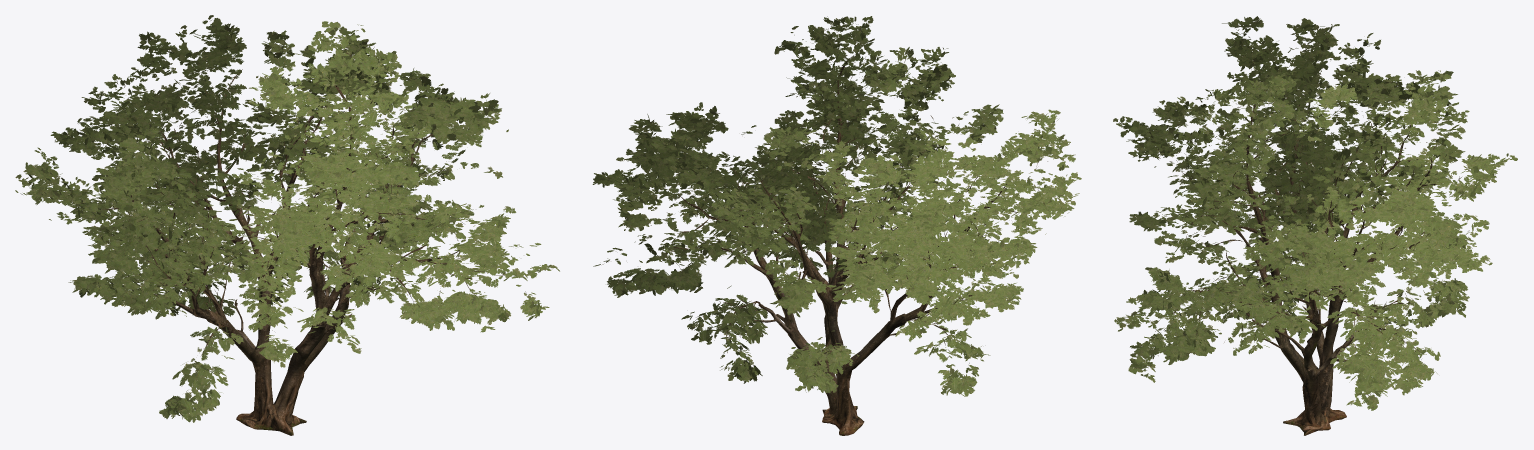
3 views of the same model, side by side, from view 1: azimuth 30°, elevation 25°; view 2: azimuth 150°, elevation 25°; view 3: azimuth 270°, elevation 25° (orthographic). The views are drawn at different scales.
Parts seen in each view (by area): view 1: jacaranda_tree_lod0; view 2: jacaranda_tree_lod0; view 3: jacaranda_tree_lod0.
Part boxes in pixels (x1=…): jacaranda_tree_lod0: x1=15, y1=15, x2=559, y2=435; jacaranda_tree_lod0: x1=592, y1=16, x2=1081, y2=435; jacaranda_tree_lod0: x1=1113, y1=16, x2=1517, y2=435.
Size of the model in its own units: 24.48 by 19.45 by 19.27.
3 materials, 3 textured.
